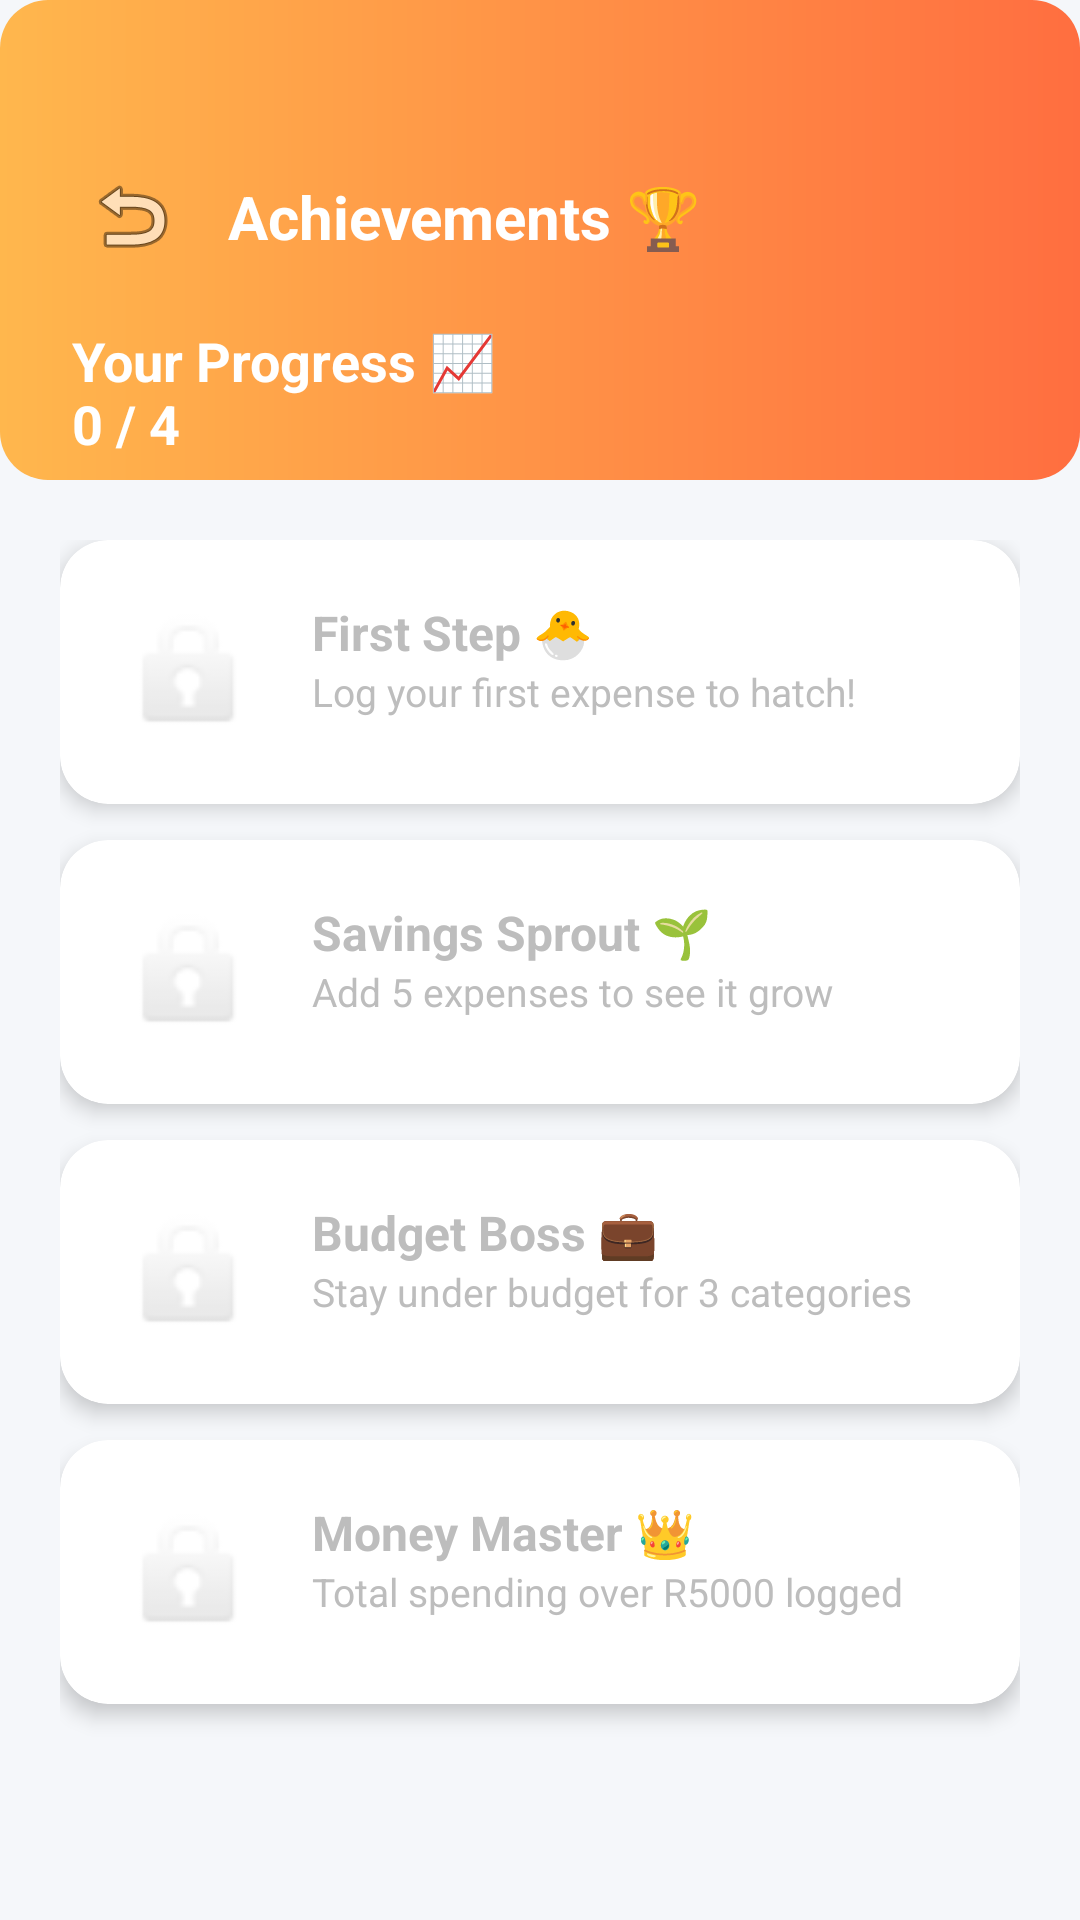

Named icons in this screenshot (1080w x 1920h) and their centers, point (x, y):
Back: point (133, 216)
